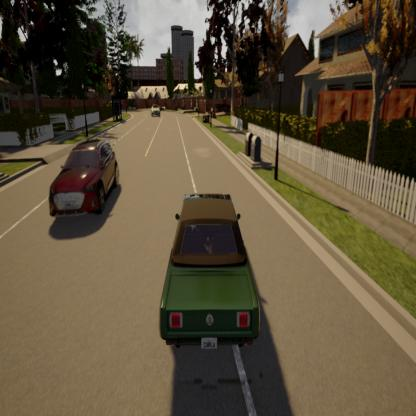Cars: (153, 169, 266, 363), (42, 123, 125, 247), (148, 93, 162, 124)
